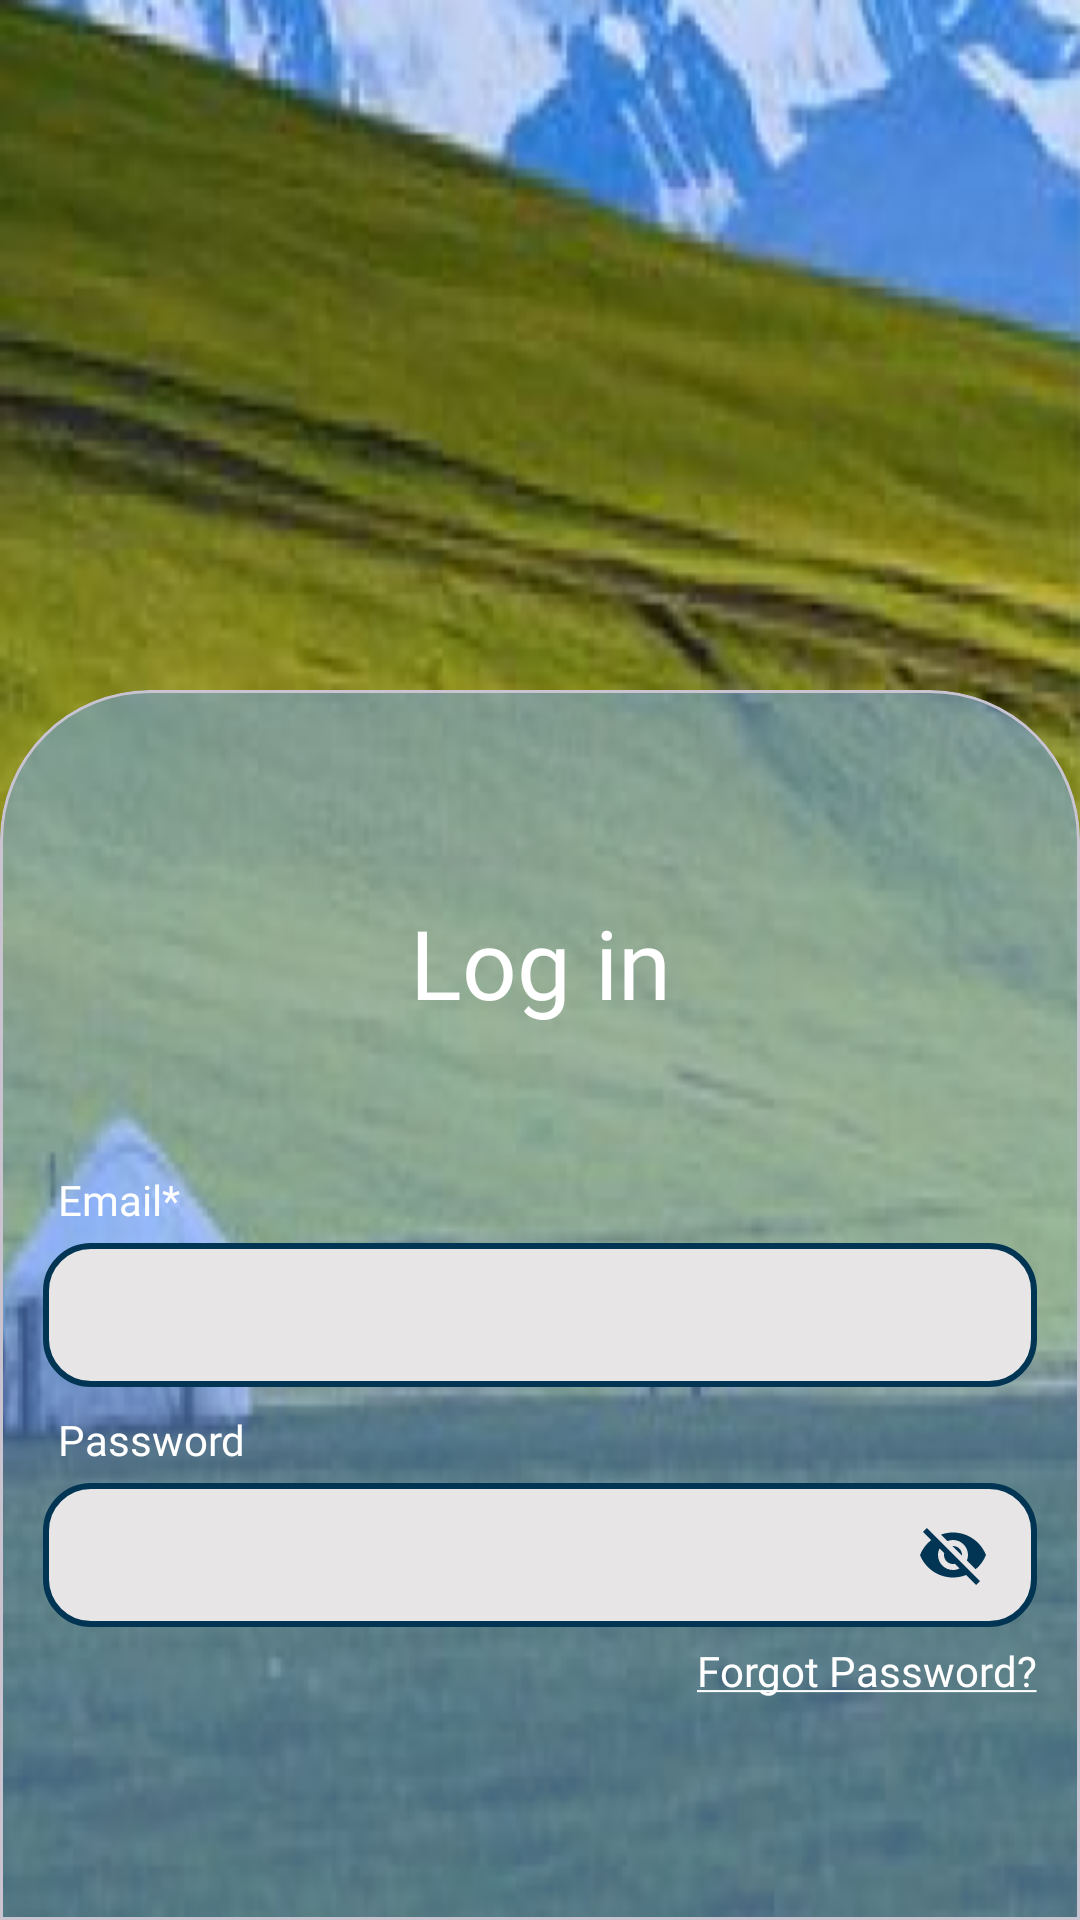

Locate icon controls on the screen. Image size 1080×1920, boxes as (x1, y1, x2, y2).
visibility off: (920, 1528, 986, 1585)
